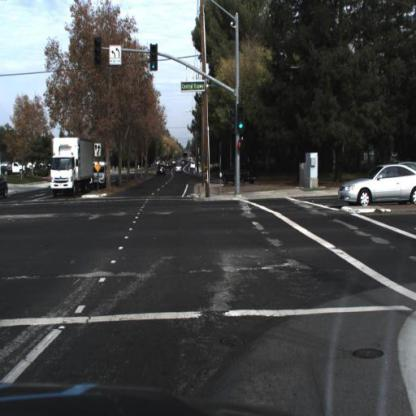car: (339, 158, 416, 203), (224, 165, 259, 186), (9, 157, 28, 178)
trafficLight-Green: (149, 42, 159, 73), (238, 103, 247, 136), (151, 43, 159, 77)
truck: (50, 135, 97, 200)
